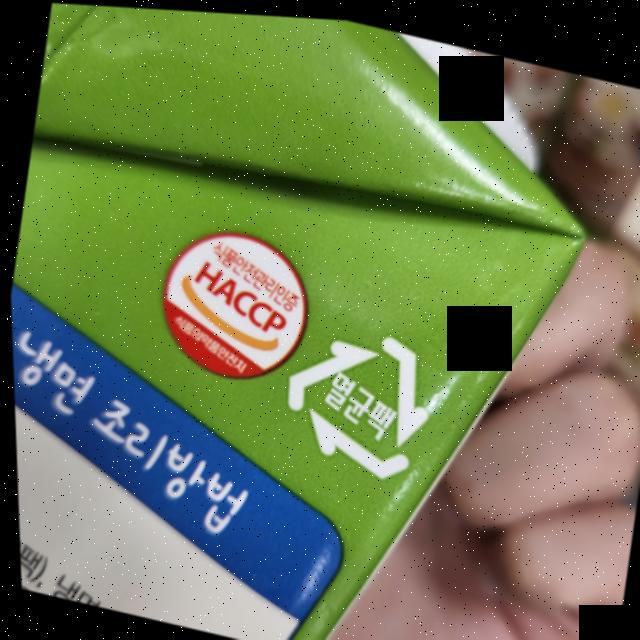SterilizedPack: (277, 308, 437, 482)
